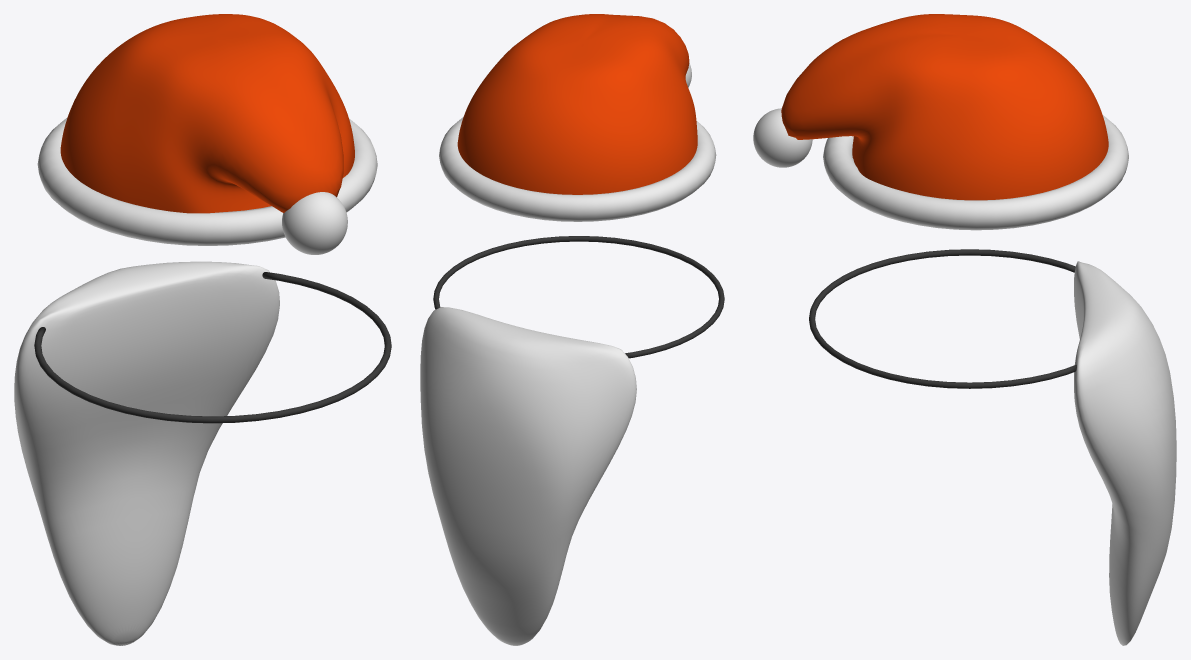
File: shapka_deda_v2.fbx
The picture shows the model from 3 angles, left to right: view 1: azimuth 30°, elevation 25°; view 2: azimuth 150°, elevation 25°; view 3: azimuth 270°, elevation 25°; orthographic projection. The views are drawn at different scales.
Visible parts, largest first — view 1: Shapka_Deda; view 2: Shapka_Deda; view 3: Shapka_Deda.
Boxes of the visible parts, x1,y1,x2,y2 form: Shapka_Deda: (14,14,391,645); Shapka_Deda: (420,14,724,645); Shapka_Deda: (753,14,1176,645).
Size of the model in its own units: 241 by 505 by 317.
